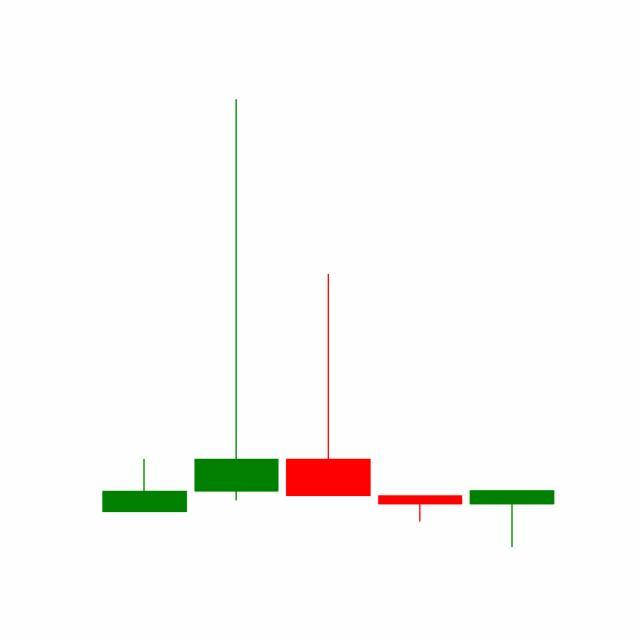Hammer: (466, 489, 559, 549)
